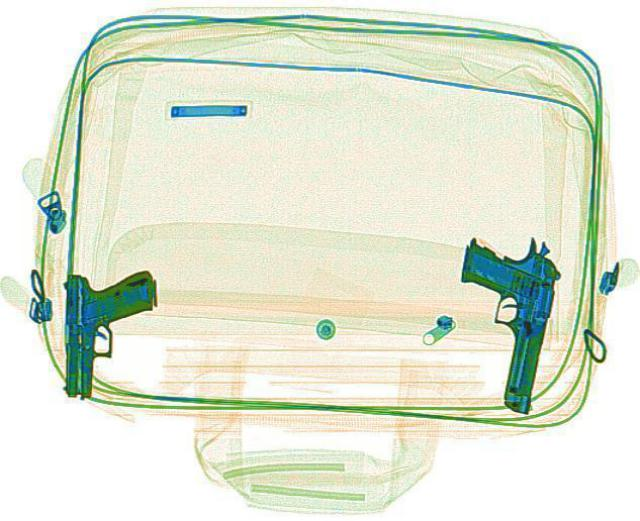Gun: (430, 228, 564, 413), (59, 267, 157, 398)
